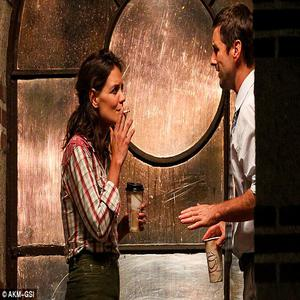cigarette: (120, 108, 133, 114)
